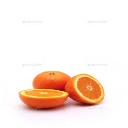orange: (15, 89, 70, 108)
